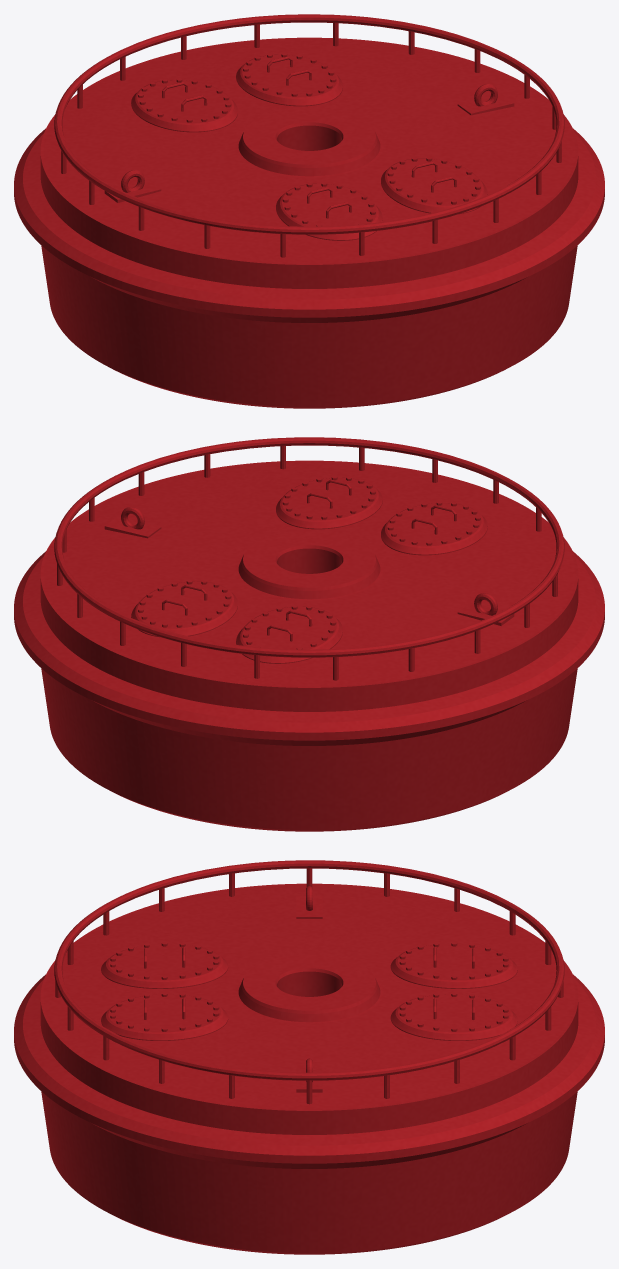
Rendered from NEW694_MooringBuoy_LOD1.glb.
3 renders of one model, top to bottom at view 1: azimuth 30°, elevation 25°; view 2: azimuth 150°, elevation 25°; view 3: azimuth 270°, elevation 25°, orthographic.
Visible parts, largest first — view 1: Buoy_body_integral_closed_hatches_central_through_bore, Four_closed_oval_hatch_covers_seated_on_deck, Low_circular_rail_and_twenty_attached_supports, Four_hatch_bolt_sets_and_eight_grab_handles, Two_lifting_eye_assemblies_with_attached_baseplates; view 2: Buoy_body_integral_closed_hatches_central_through_bore, Four_closed_oval_hatch_covers_seated_on_deck, Low_circular_rail_and_twenty_attached_supports, Four_hatch_bolt_sets_and_eight_grab_handles, Two_lifting_eye_assemblies_with_attached_baseplates; view 3: Buoy_body_integral_closed_hatches_central_through_bore, Four_closed_oval_hatch_covers_seated_on_deck, Low_circular_rail_and_twenty_attached_supports, Four_hatch_bolt_sets_and_eight_grab_handles, Two_lifting_eye_assemblies_with_attached_baseplates.
Part boxes in pixels (left/top/right/bottom): Buoy_body_integral_closed_hatches_central_through_bore: left=14, top=37, right=604, bottom=408; Four_closed_oval_hatch_covers_seated_on_deck: left=131, top=54, right=487, bottom=240; Low_circular_rail_and_twenty_attached_supports: left=54, top=14, right=564, bottom=257; Four_hatch_bolt_sets_and_eight_grab_handles: left=138, top=53, right=480, bottom=226; Two_lifting_eye_assemblies_with_attached_baseplates: left=104, top=84, right=514, bottom=202; Buoy_body_integral_closed_hatches_central_through_bore: left=14, top=460, right=604, bottom=831; Four_closed_oval_hatch_covers_seated_on_deck: left=131, top=477, right=487, bottom=663; Low_circular_rail_and_twenty_attached_supports: left=54, top=437, right=564, bottom=680; Four_hatch_bolt_sets_and_eight_grab_handles: left=138, top=476, right=480, bottom=649; Two_lifting_eye_assemblies_with_attached_baseplates: left=104, top=507, right=514, bottom=625; Buoy_body_integral_closed_hatches_central_through_bore: left=14, top=883, right=604, bottom=1254; Four_closed_oval_hatch_covers_seated_on_deck: left=101, top=944, right=517, bottom=1040; Low_circular_rail_and_twenty_attached_supports: left=54, top=860, right=564, bottom=1104; Four_hatch_bolt_sets_and_eight_grab_handles: left=110, top=942, right=508, bottom=1031; Two_lifting_eye_assemblies_with_attached_baseplates: left=296, top=886, right=322, bottom=1092.
Size of the model in its own units: 2 by 0.6733 by 2.
Materials: 1 (1 with a texture image).
